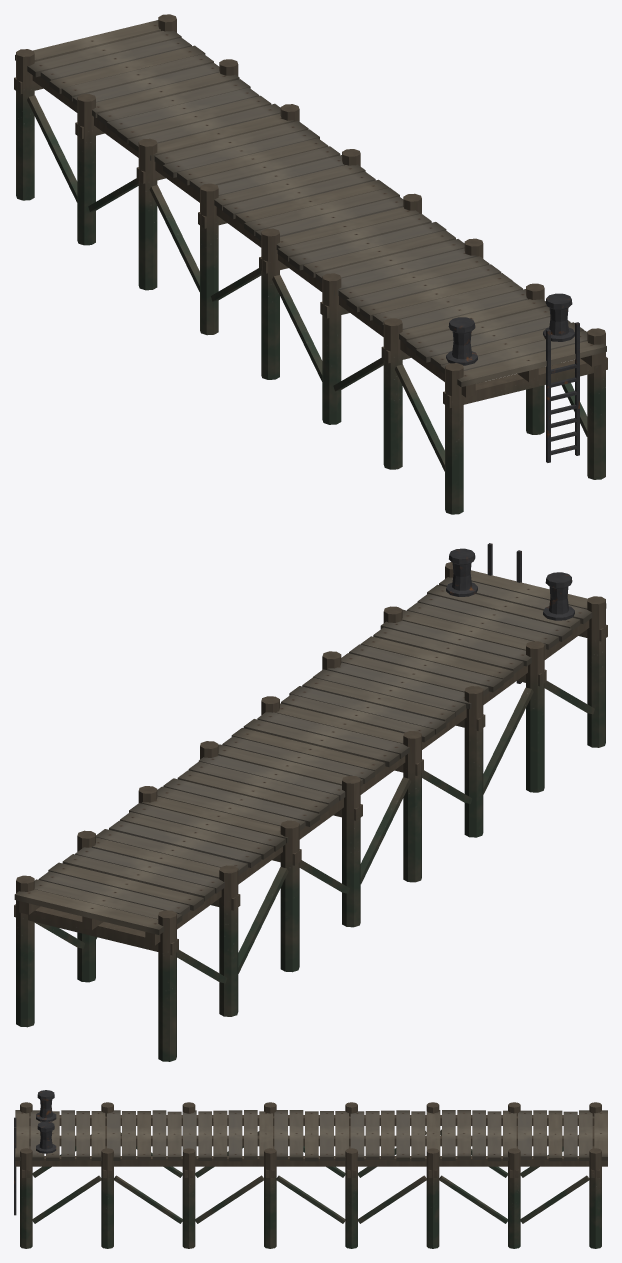
3 renders of one model, top to bottom at view 1: azimuth 30°, elevation 25°; view 2: azimuth 150°, elevation 25°; view 3: azimuth 270°, elevation 25°, orthographic. The views are drawn at different scales.
Visible parts, largest first — view 1: 부두_잔교_긴; view 2: 부두_잔교_긴; view 3: 부두_잔교_긴.
Part boxes in pixels (x1,y1,x2,y2): 부두_잔교_긴: [14, 14, 607, 514]; 부두_잔교_긴: [14, 543, 607, 1061]; 부두_잔교_긴: [14, 1090, 607, 1248].
Bounding box in the file's own units: 492 × 508 × 2400.
3 materials, 3 textured.
